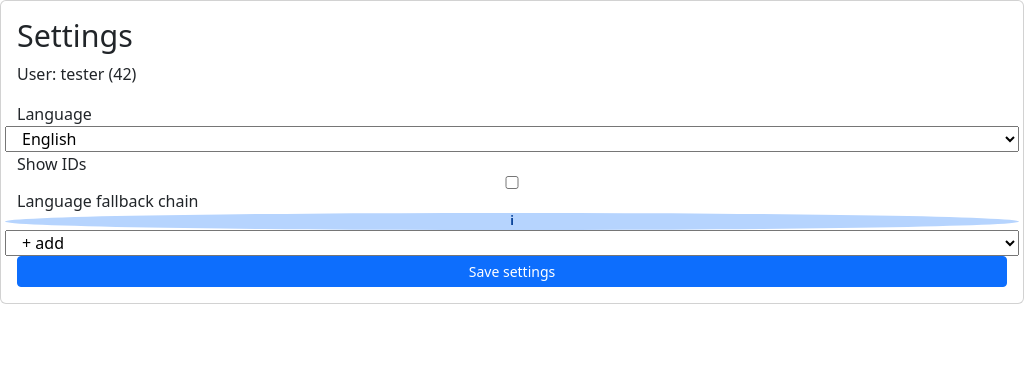
Scenario: SettingsView › saves settings for the signed-in user
Select "sv" in the dropdown with test id "settings-fallback-add-select" at (512, 243), box 5,230 -> 1019,256
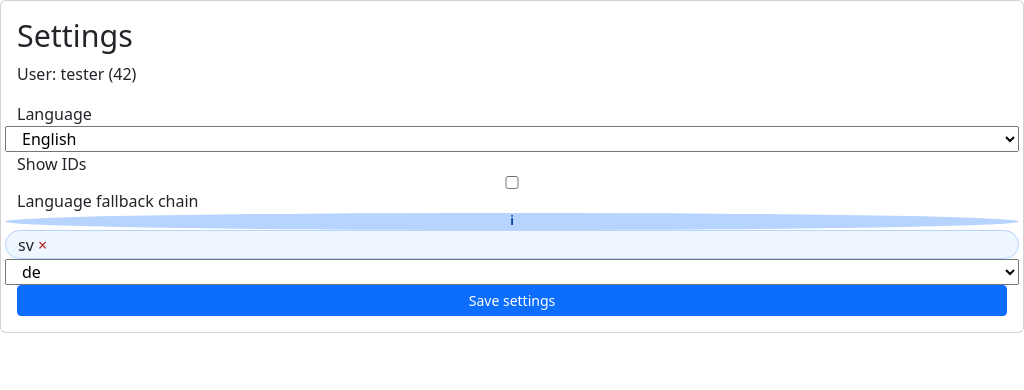
Click the button with test id "settings-save" at (512, 301), box 17,285 -> 1007,316
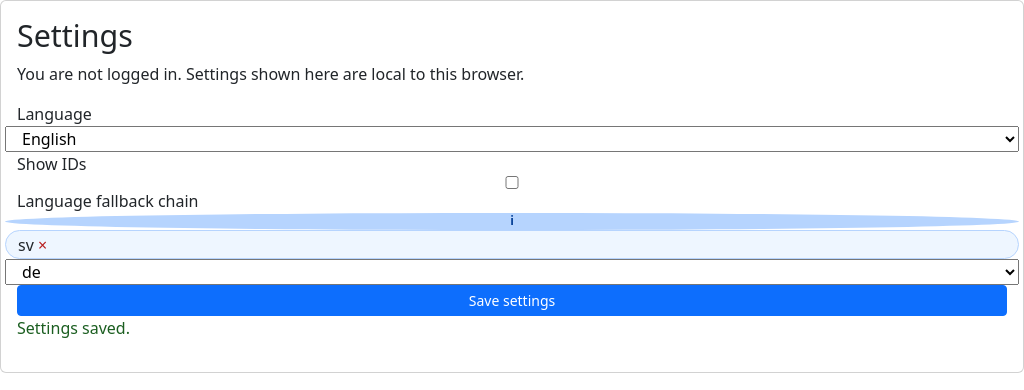
Result: the text with test id "settings-saved" reads "Settings saved." at 17,317 -> 130,339
